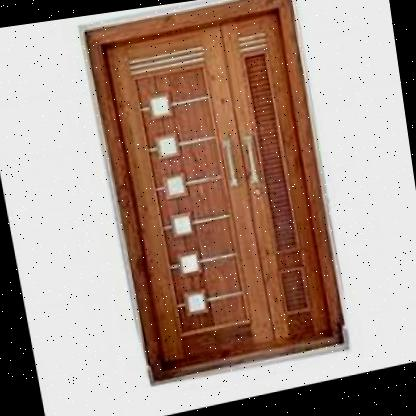door: (73, 0, 353, 383)
